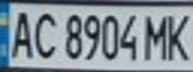0: (100, 11, 121, 62)
4: (118, 10, 142, 62)
8: (60, 9, 84, 61)
9: (78, 10, 103, 62)
A: (3, 7, 36, 60)
C: (30, 8, 60, 61)
K: (163, 9, 193, 62)
M: (139, 10, 172, 62)
